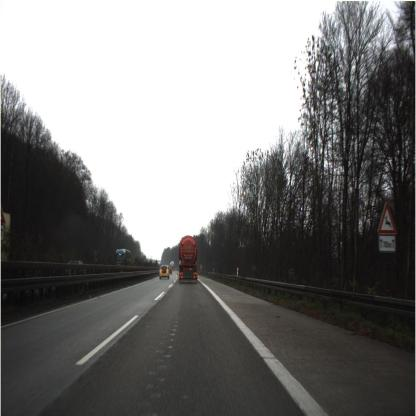danger: (374, 202, 398, 236)
